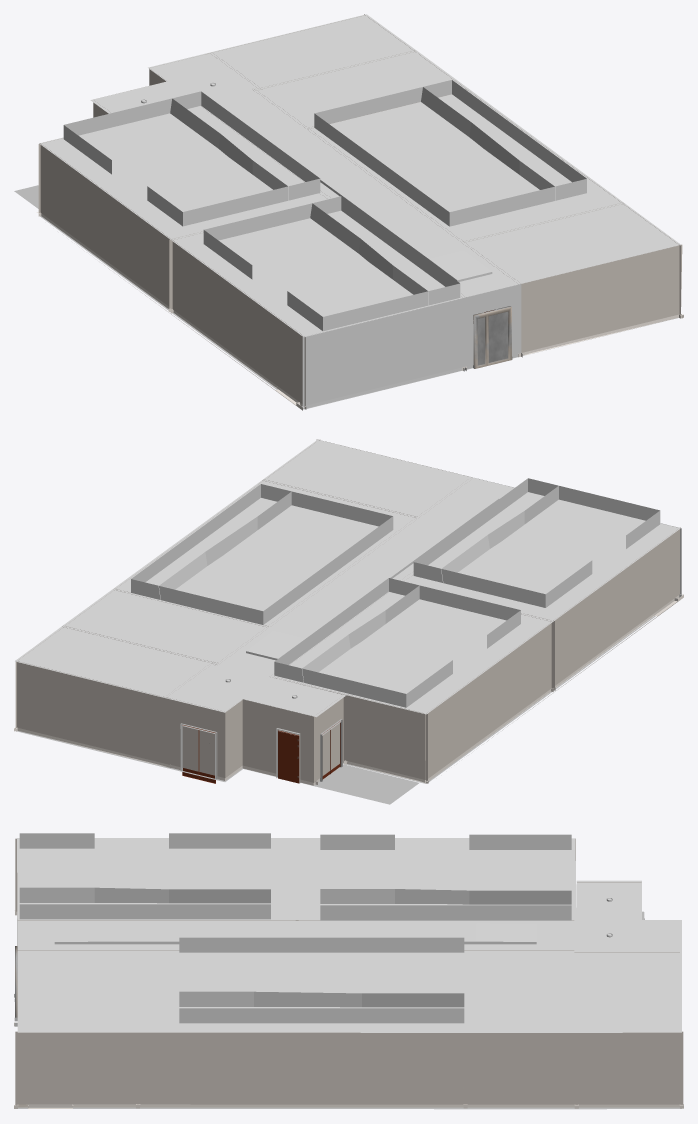
Rendered from couloirtexturé.fbx.
3 views of the same model, one above another, from view 1: azimuth 30°, elevation 25°; view 2: azimuth 150°, elevation 25°; view 3: azimuth 270°, elevation 25° (orthographic). The views are drawn at different scales.
Visible parts, largest first — view 1: toit, Cube.087, Cube.079, Cube.084, Cube.104, Cube.114, Cube.123, Cube.094, Cube.069, Cube.003, sol; view 2: toit, Cube.087, Cube.083, Cube.104, Cube, Cube.114, Cube.123, Cube.094, Cube.088, sol, Cube.001, Cube.029; view 3: toit, Cube.086, Cube.104, Cube.114, Cube.123, Cube.094, sol.
Part boxes in pixels (box(x1,y1,x2,y2)): toit: box(39, 14, 680, 337); Cube.087: box(37, 143, 306, 410); Cube.079: box(521, 244, 683, 357); Cube.084: box(302, 298, 466, 409); Cube.104: box(314, 80, 586, 226); Cube.114: box(203, 196, 460, 331); Cube.123: box(63, 91, 320, 226); Cube.094: box(231, 104, 492, 281); Cube.069: box(463, 284, 522, 371); Cube.003: box(473, 306, 511, 368); sol: box(14, 185, 678, 409); toit: box(15, 439, 680, 717); Cube.087: box(425, 527, 683, 783); Cube.083: box(14, 661, 170, 767); Cube.104: box(131, 484, 393, 624); Cube: box(170, 513, 421, 785); Cube.114: box(413, 478, 660, 607); Cube.123: box(274, 578, 520, 707); Cube.094: box(246, 490, 499, 660); Cube.088: box(343, 694, 428, 783); sol: box(15, 616, 655, 804); Cube.001: box(274, 575, 412, 784); Cube.029: box(278, 730, 299, 783); toit: box(17, 838, 681, 1032); Cube.086: box(15, 1031, 683, 1108); Cube.104: box(179, 937, 464, 1023); Cube.114: box(19, 833, 270, 919); Cube.123: box(320, 834, 571, 920); Cube.094: box(54, 923, 536, 944); sol: box(17, 915, 681, 1109).
Bounding box in the file's own units: 1668 × 386 × 2407.
